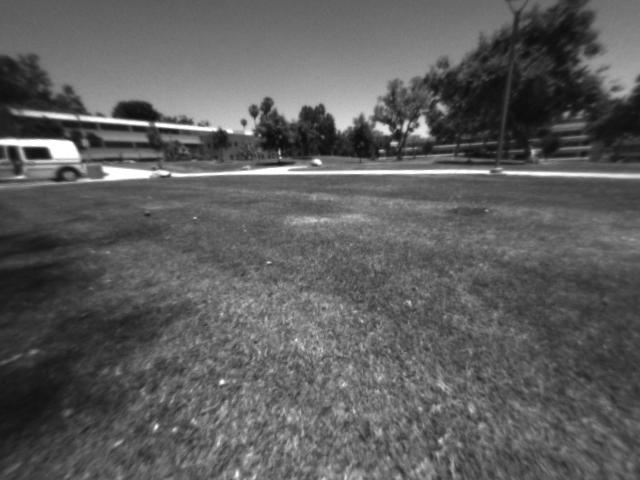dogtoy: (136, 203, 160, 221)
